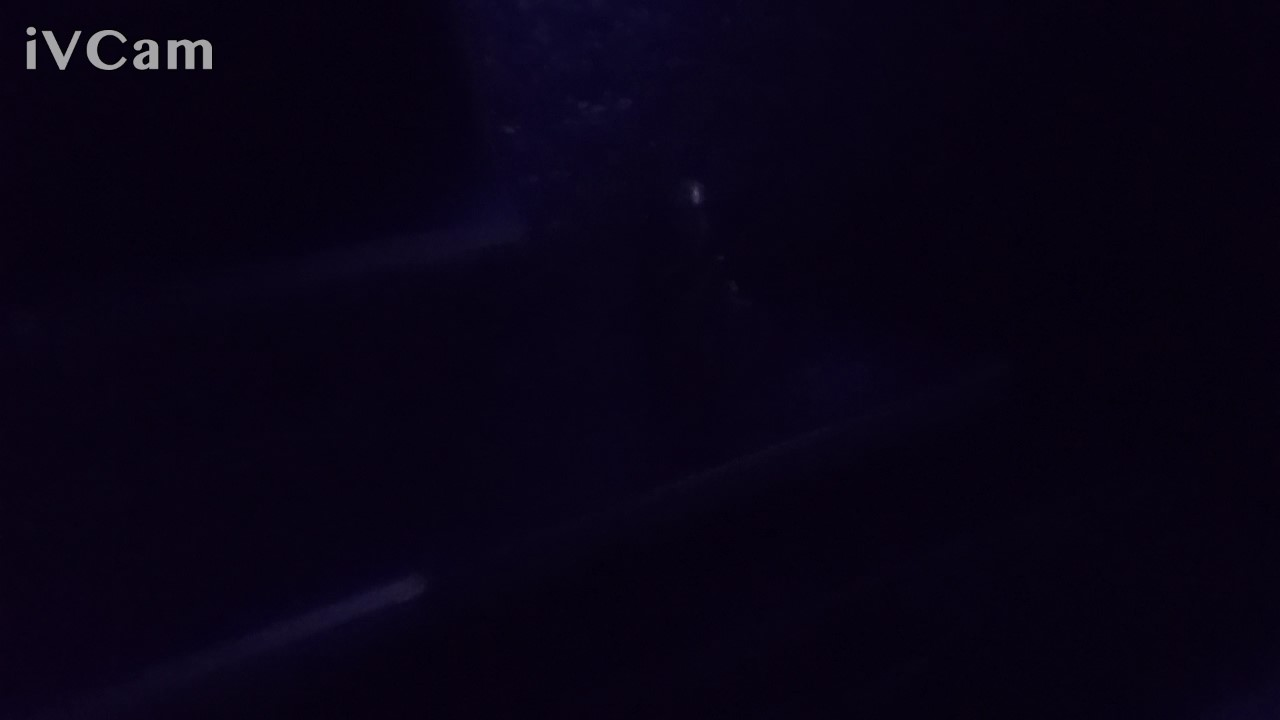mandalorian: (606, 159, 780, 459)
